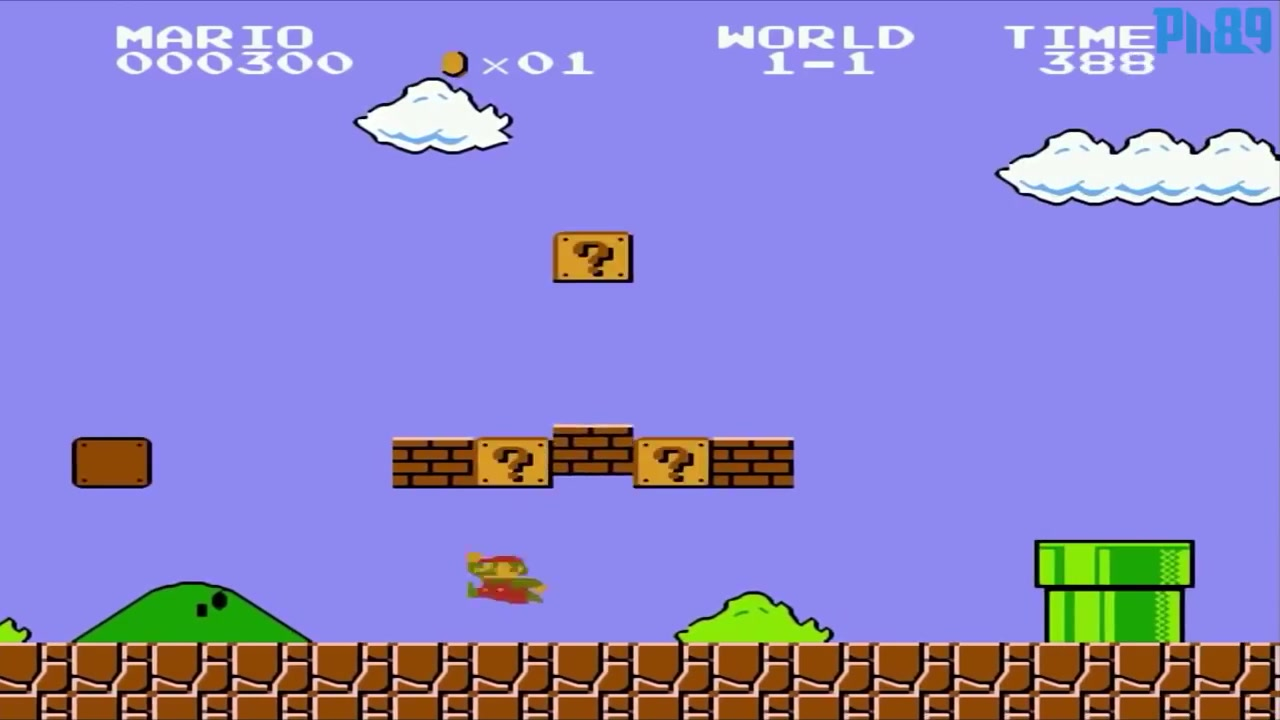mario: (453, 540, 550, 611)
